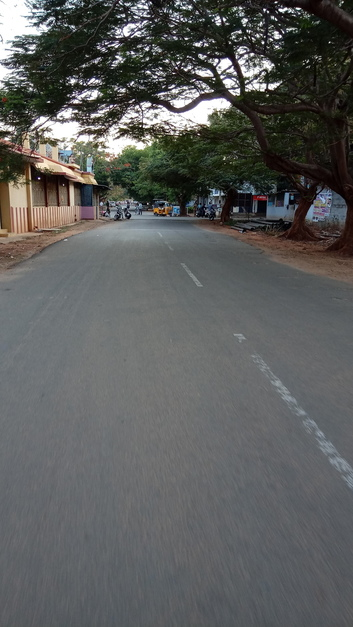bump: (104, 216, 194, 223)
